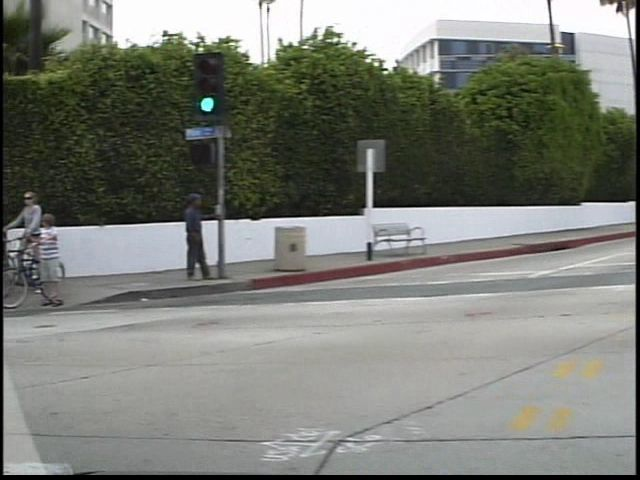person: (3, 182, 40, 308), (172, 187, 217, 289)
